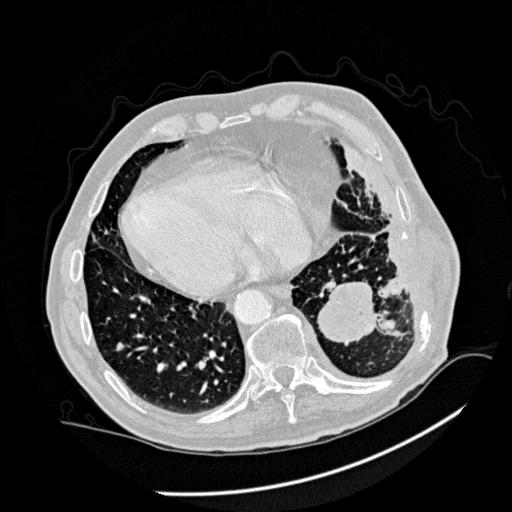nodule: (116, 339, 129, 352)
